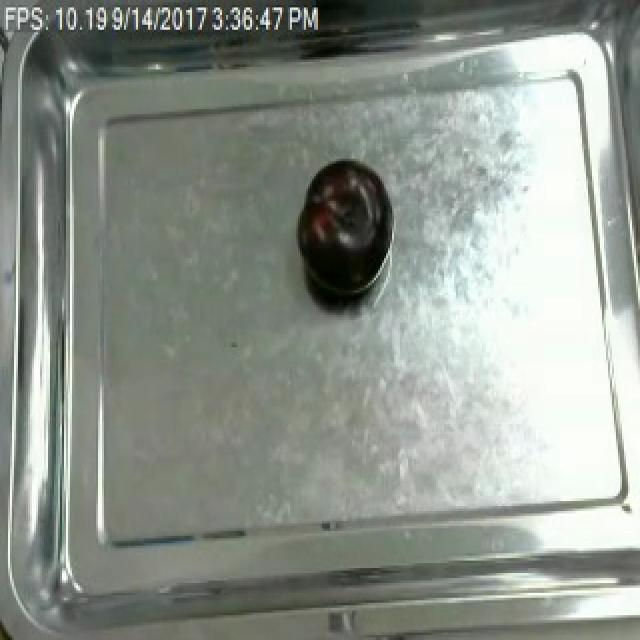Fruit: (290, 156, 392, 305)
